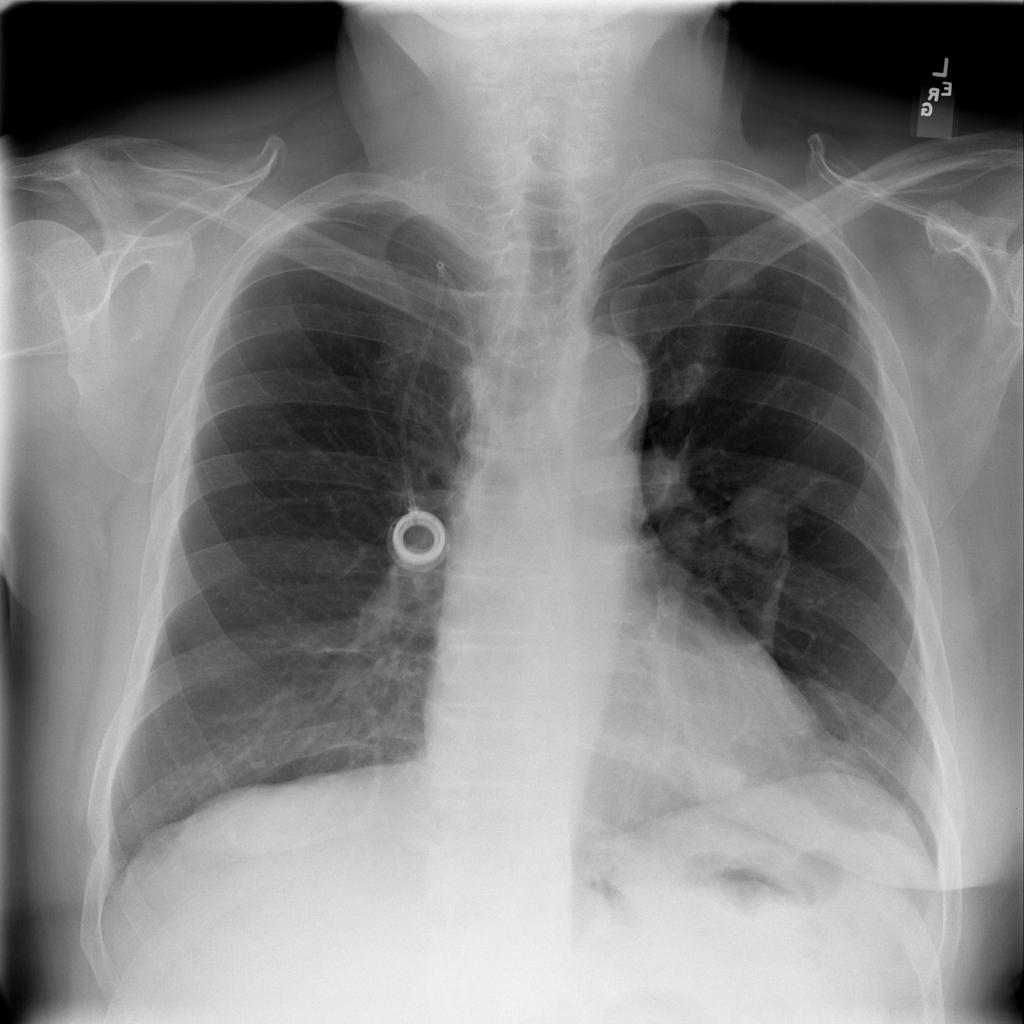nodule: (712, 462, 819, 579), (677, 743, 763, 810), (703, 248, 779, 315)
